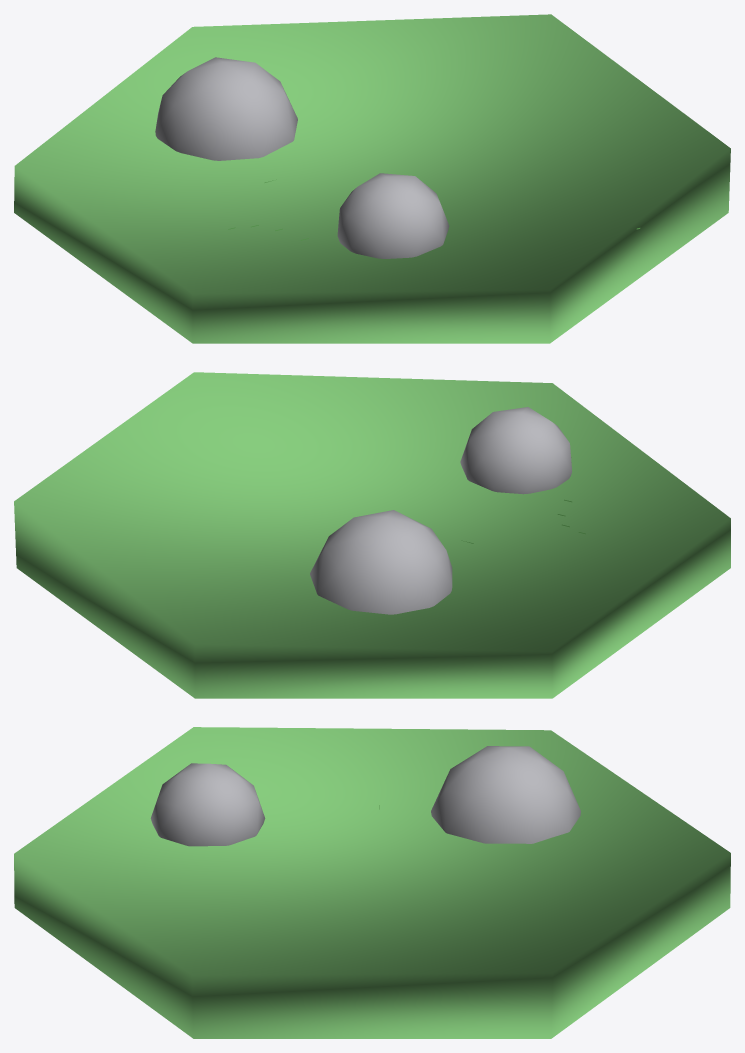
The model's file is grassland_v0.glb.
3 renders of one model, top to bottom at view 1: azimuth 30°, elevation 25°; view 2: azimuth 150°, elevation 25°; view 3: azimuth 270°, elevation 25°, orthographic.
Visible parts, largest first — view 1: grassland_tile_0.001, rock_Icosphere.011, rock_Icosphere.010; view 2: grassland_tile_0.001, rock_Icosphere.011, rock_Icosphere.010; view 3: grassland_tile_0.001, rock_Icosphere.011, rock_Icosphere.010.
Part boxes in pixels (x1,y1,x2,y2): grassland_tile_0.001: (14,14,730,343); rock_Icosphere.011: (155,57,297,160); rock_Icosphere.010: (337,173,449,258); grassland_tile_0.001: (14,372,730,698); rock_Icosphere.011: (310,510,452,614); rock_Icosphere.010: (460,407,571,494); grassland_tile_0.001: (14,727,730,1038); rock_Icosphere.011: (431,746,580,843); rock_Icosphere.010: (150,763,265,846).
Bounding box in the file's own units: 0.8876 × 0.2247 × 1.02.
